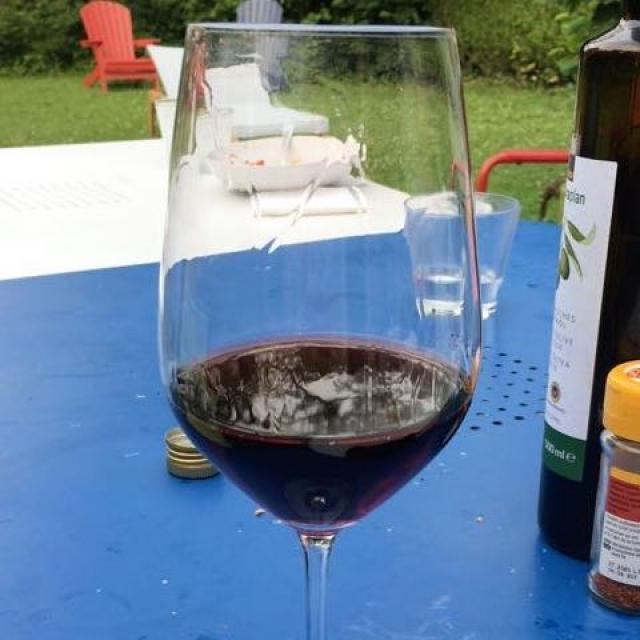wine: (175, 338, 471, 487)
